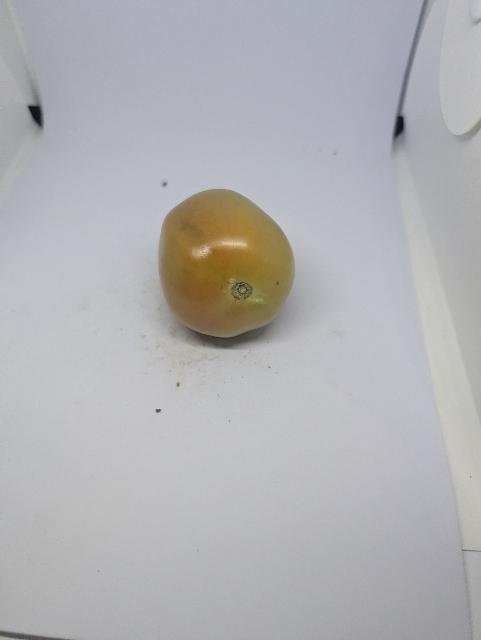breaker: (159, 189, 295, 337)
